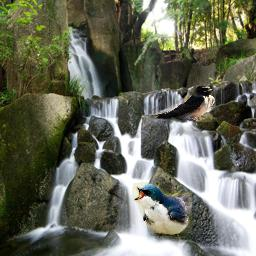Swallow: (132, 182, 192, 238), (153, 85, 215, 122)
